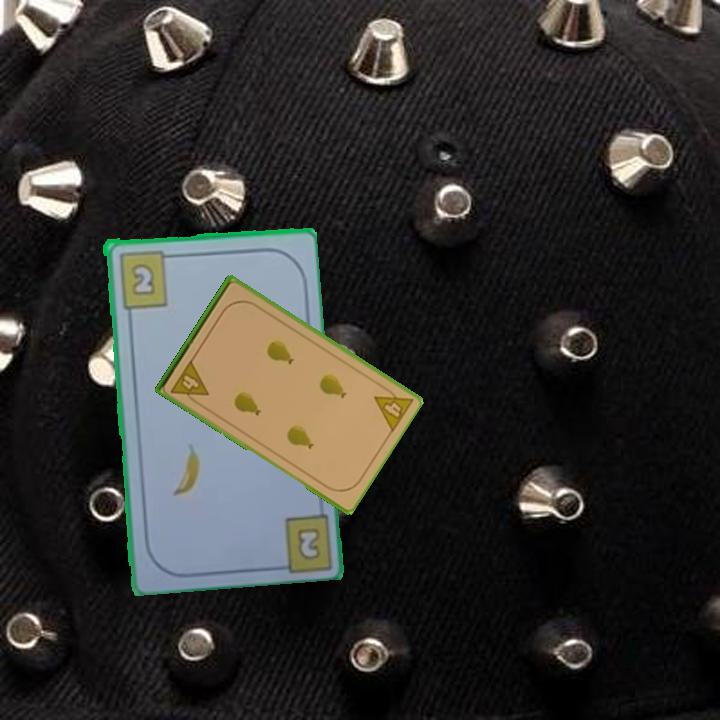2b: (115, 246, 176, 311), (296, 527, 320, 560)
4p: (370, 380, 416, 435), (167, 356, 212, 408)
